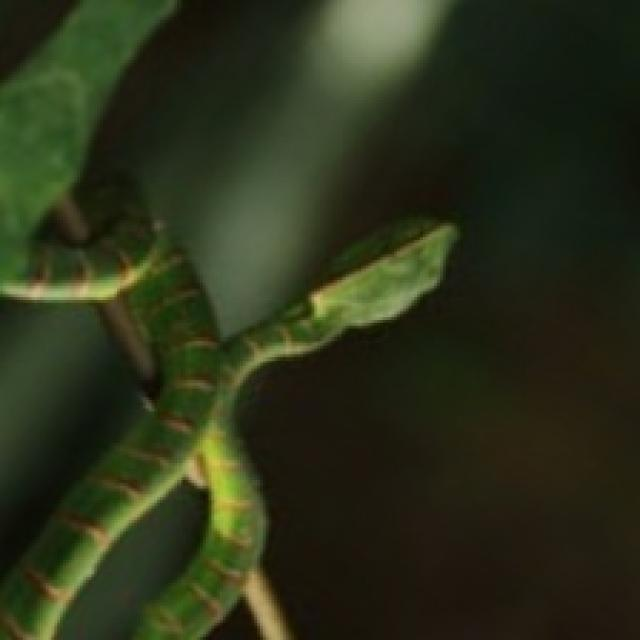north ph temple pitviper: (0, 217, 454, 637)
